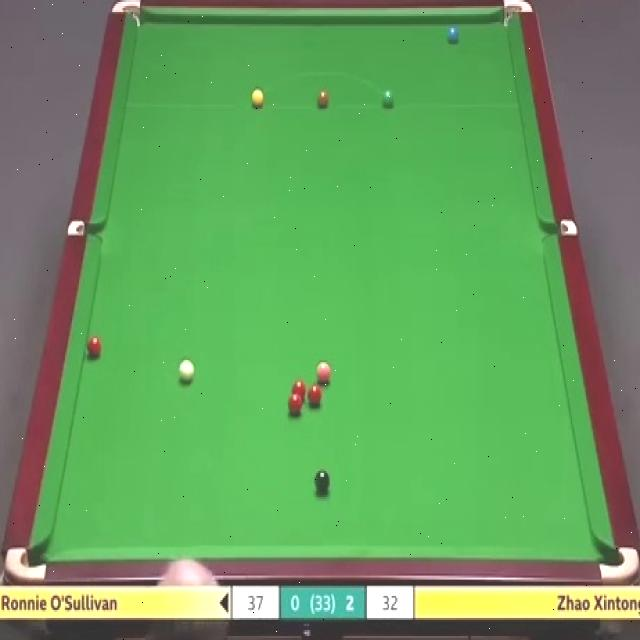black-ball: (314, 467, 330, 495)
blue-ball: (447, 22, 460, 42)
brown-ball: (316, 91, 330, 107)
green-ball: (382, 87, 396, 110)
pink-ball: (316, 360, 331, 384)
red-ball: (292, 378, 306, 402), (308, 385, 324, 406), (288, 392, 303, 414), (87, 335, 101, 358)
white-ball: (178, 356, 196, 386)
yellow-ball: (250, 88, 265, 108)
